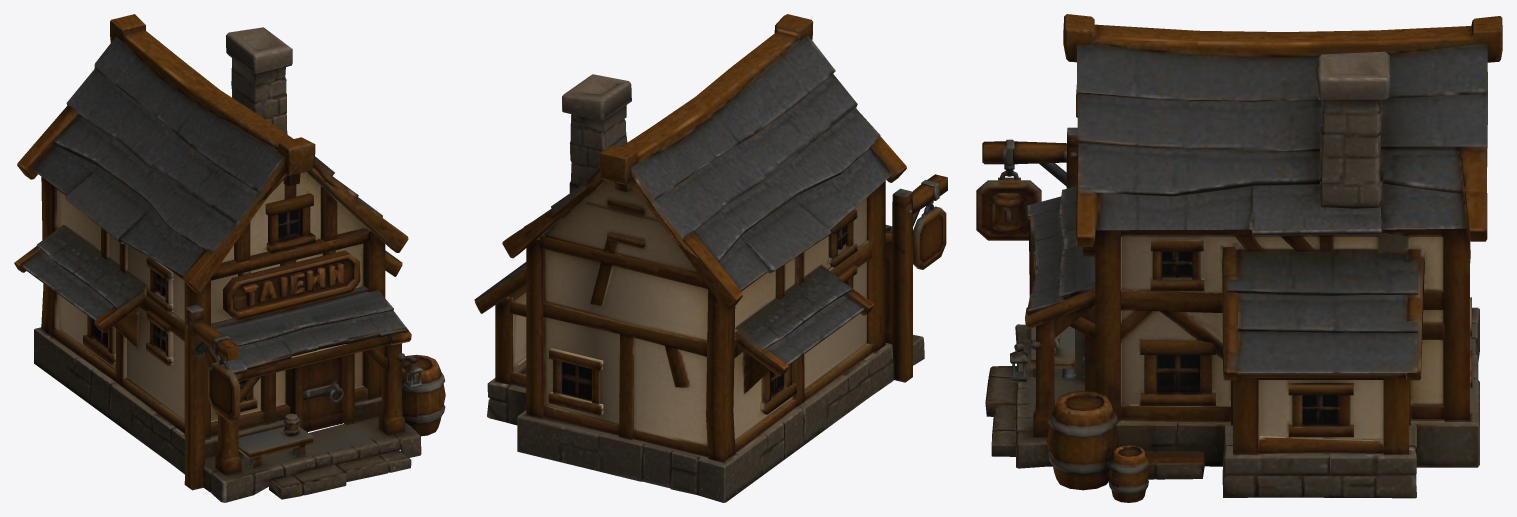
File: medieval+tavern+3d+model.glb
3 views of the same model, side by side, from view 1: azimuth 30°, elevation 25°; view 2: azimuth 150°, elevation 25°; view 3: azimuth 270°, elevation 25° (orthographic). The views are drawn at different scales.
Parts seen in each view (by area): view 1: tripo_node_2c96feef-acf6-4a81-ab6f-b66ae7f5fa51; view 2: tripo_node_2c96feef-acf6-4a81-ab6f-b66ae7f5fa51; view 3: tripo_node_2c96feef-acf6-4a81-ab6f-b66ae7f5fa51.
Part boxes in pixels (left/top/right/bottom): tripo_node_2c96feef-acf6-4a81-ab6f-b66ae7f5fa51: left=14, top=14, right=445, bottom=502; tripo_node_2c96feef-acf6-4a81-ab6f-b66ae7f5fa51: left=474, top=14, right=947, bottom=502; tripo_node_2c96feef-acf6-4a81-ab6f-b66ae7f5fa51: left=976, top=14, right=1502, bottom=502.
Size of the model in its own units: 0.813 by 0.8218 by 0.9995.
1 material, 1 textured.
